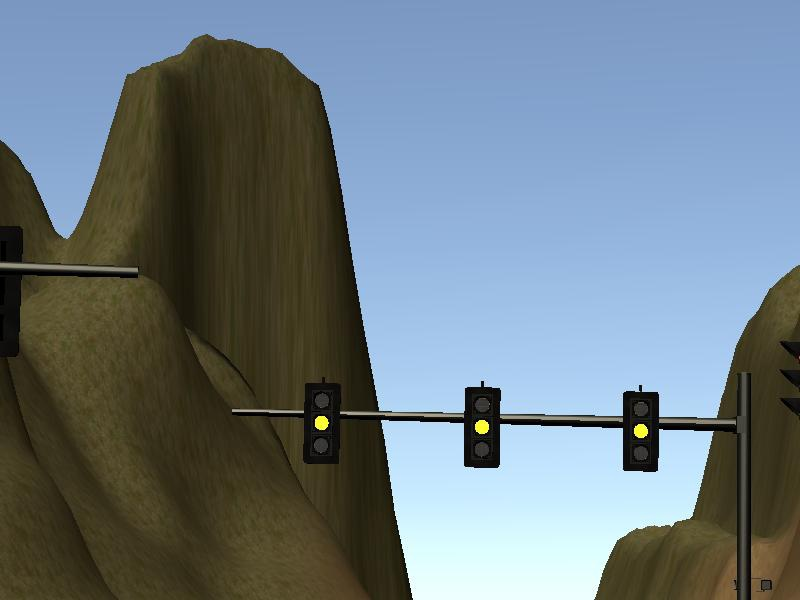yellow_light: (624, 392, 658, 472), (466, 388, 498, 467), (307, 384, 338, 462)
